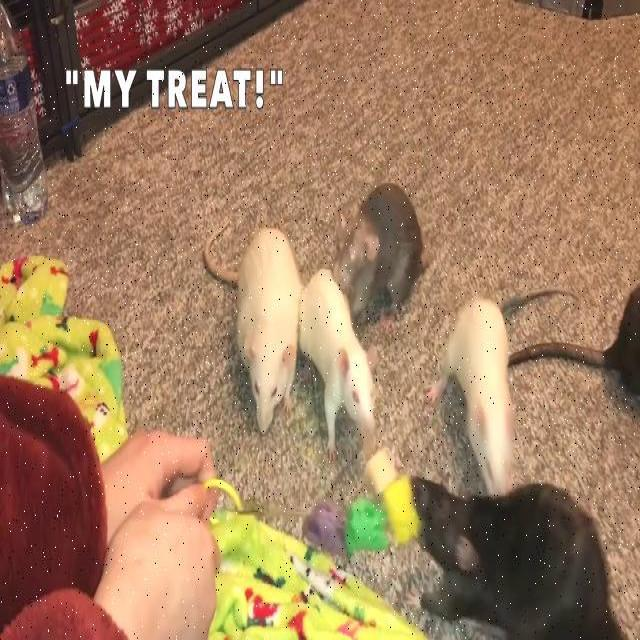rat: (412, 478, 628, 639), (427, 290, 571, 495), (205, 219, 301, 429), (335, 184, 423, 320), (311, 270, 373, 458)
